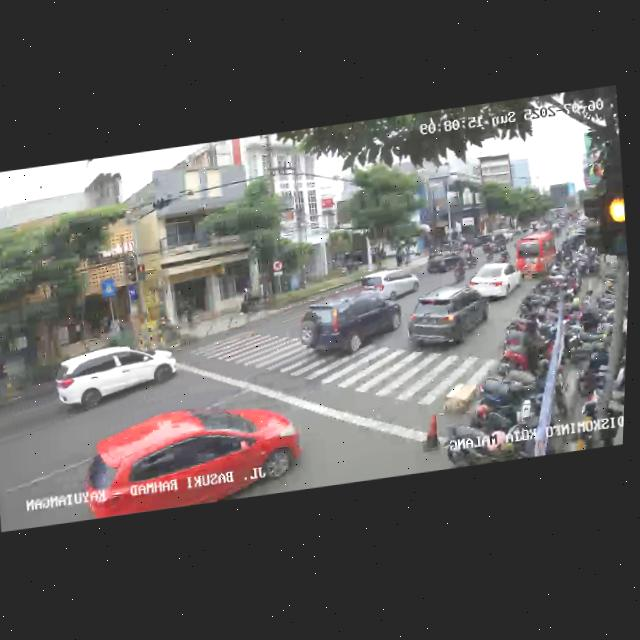car: (77, 392, 308, 519), (48, 337, 177, 419), (298, 289, 404, 365), (401, 283, 493, 356), (356, 262, 422, 305), (513, 227, 563, 281), (466, 259, 524, 305), (425, 247, 468, 278)
motorcycle: (450, 250, 467, 281), (483, 239, 496, 262)
